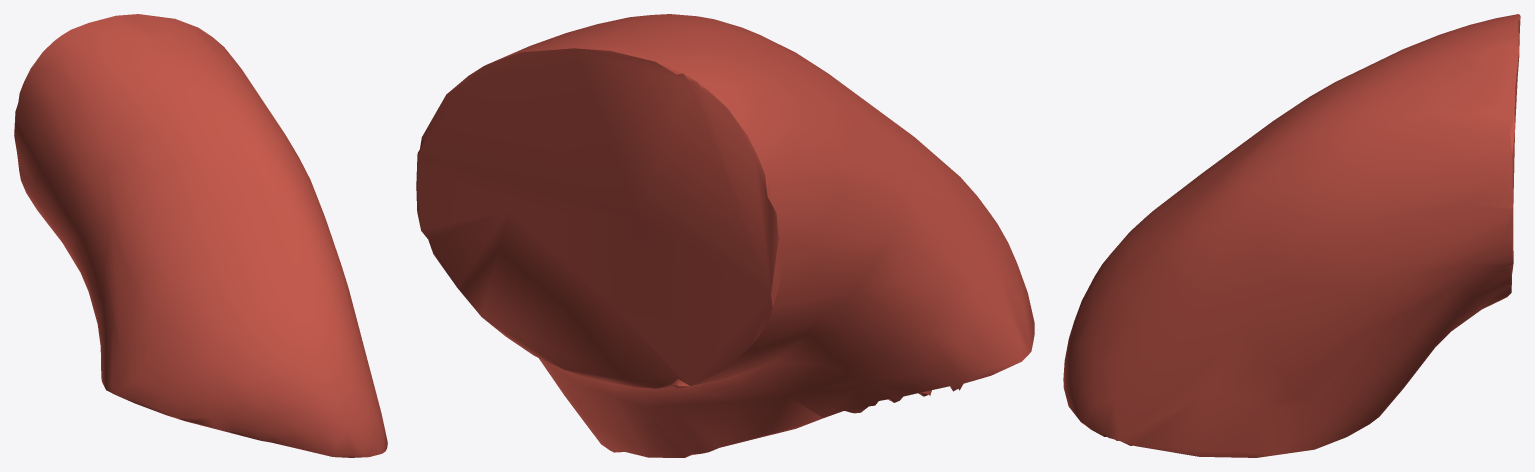
File: pulmonary_trunk.glb
3 views of the same model, side by side, from view 1: azimuth 30°, elevation 25°; view 2: azimuth 150°, elevation 25°; view 3: azimuth 270°, elevation 25° (orthographic). The views are drawn at different scales.
Visible parts, largest first — view 1: Pulmonary Trunk; view 2: Pulmonary Trunk; view 3: Pulmonary Trunk.
Boxes of the visible parts, x1=… form: Pulmonary Trunk: x1=14, y1=14, x2=387, y2=457; Pulmonary Trunk: x1=416, y1=14, x2=1034, y2=457; Pulmonary Trunk: x1=1063, y1=14, x2=1520, y2=457.
Size of the model in its own units: 0.0308 by 0.0371 by 0.0423.
